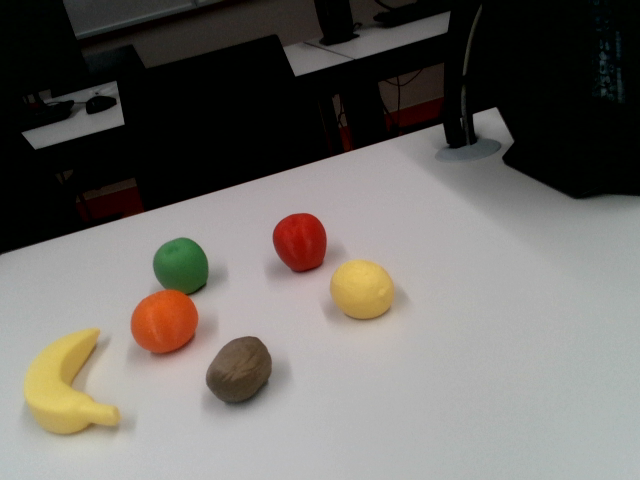Banana: (25, 328, 119, 433)
Crvena jabuka: (273, 213, 326, 271)
Limun: (331, 262, 394, 318)
Naranca: (131, 290, 197, 352)
Orah: (208, 336, 271, 402)
Zelena jabuka: (153, 237, 207, 294)
